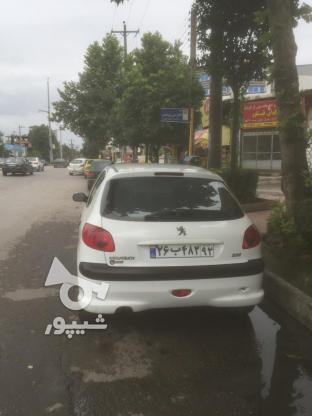car: (150, 241, 213, 259)
